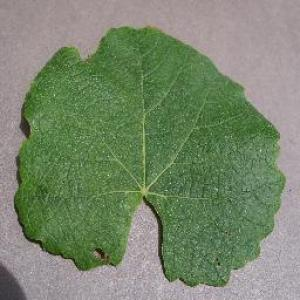Folha: (13, 24, 286, 287)
